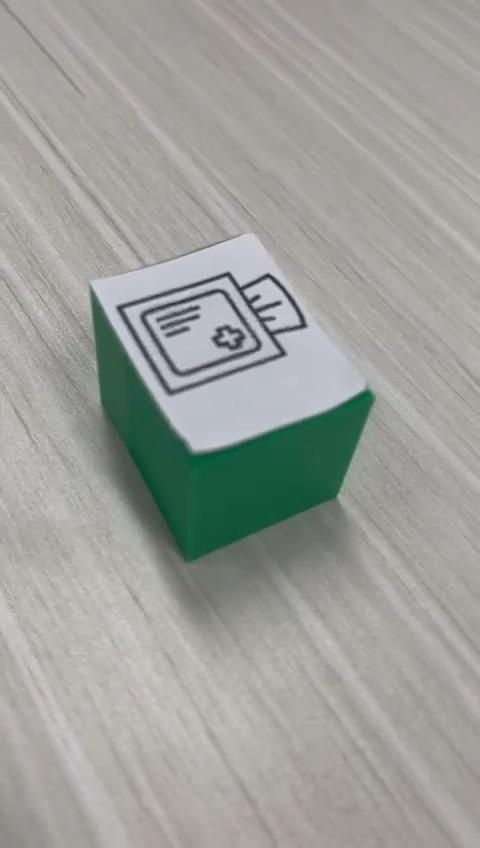Gauze: (87, 230, 376, 562)
